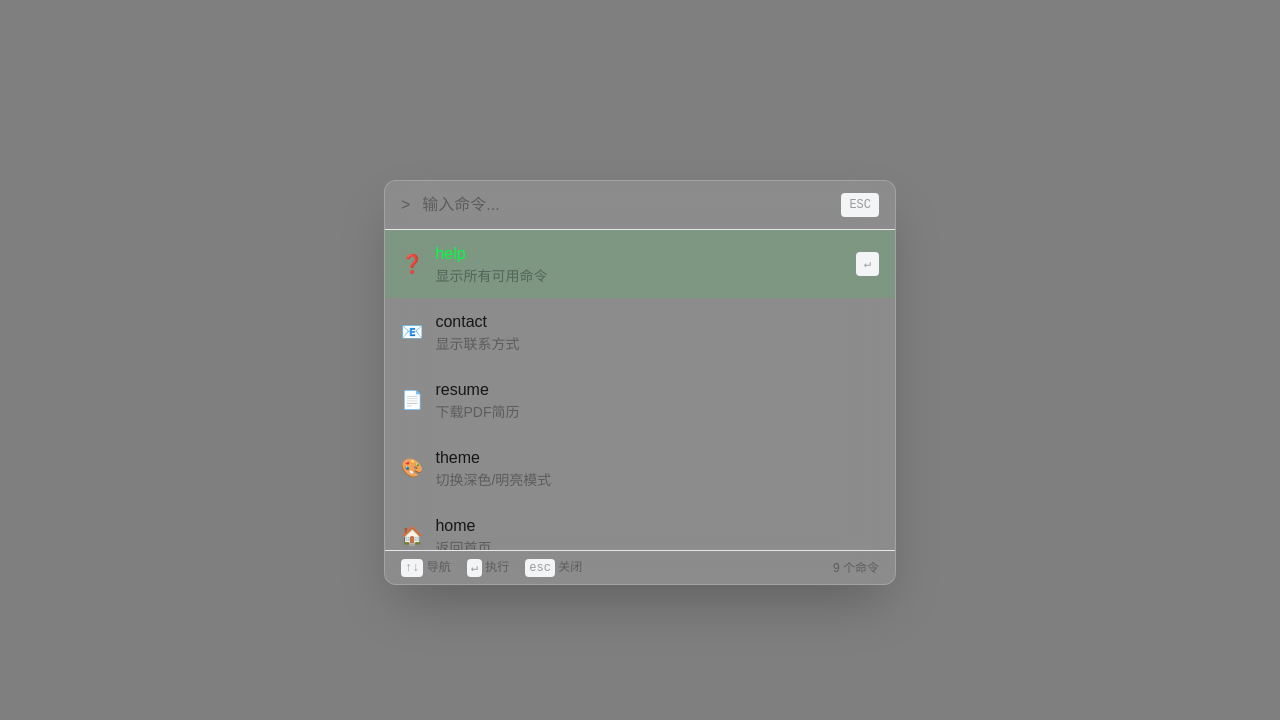
Scenario: CommandPalette › CT-CMD-04: 模糊搜索应过滤命令
The width and height of the screenshot is (1280, 720).
Type "theme" into the field with placeholder "输入命令..." at (626, 205), box x1=422 y1=193 x2=829 y2=217
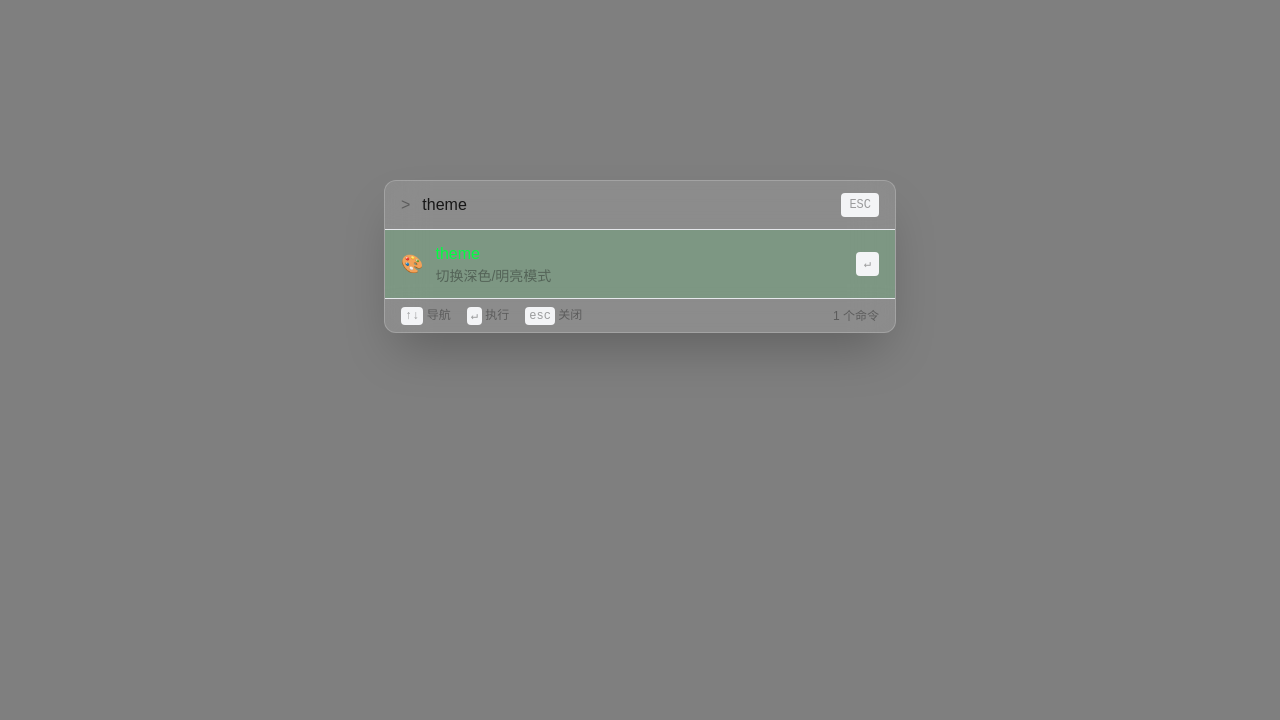
Expected: the text "theme" is shown, x1=436 y1=245 x2=480 y2=262
Expected: the text "help" is gone
